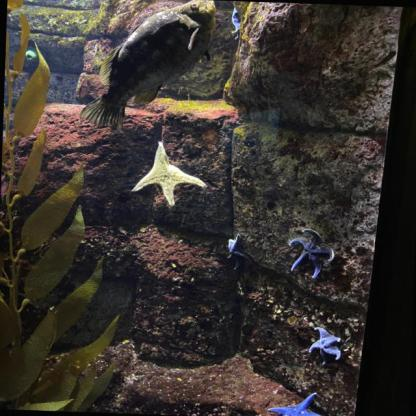fish: (77, 0, 218, 133)
starfish: (129, 141, 207, 207), (285, 227, 335, 279), (270, 390, 330, 415), (307, 326, 343, 364), (224, 234, 251, 272)
